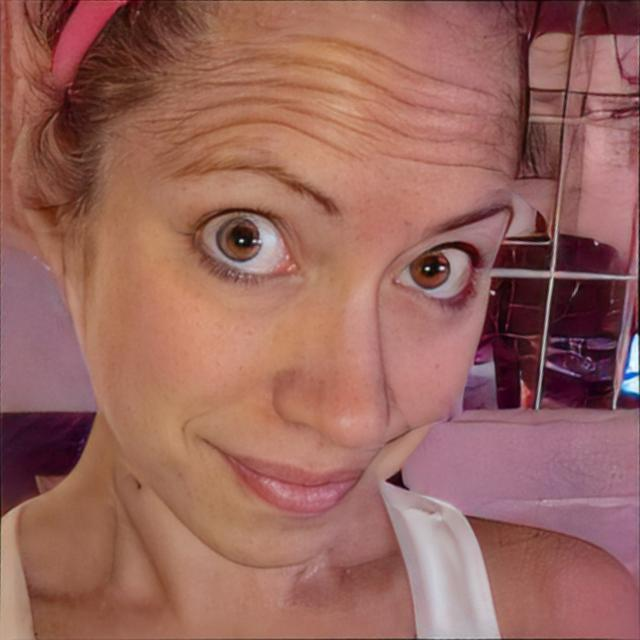surprise: (66, 0, 526, 572)
